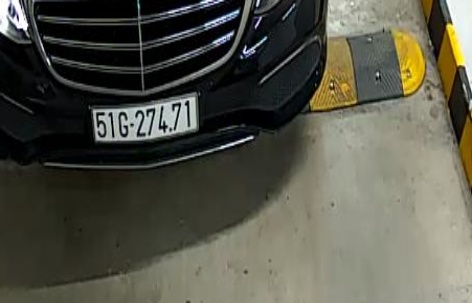plate: (84, 98, 207, 148)
